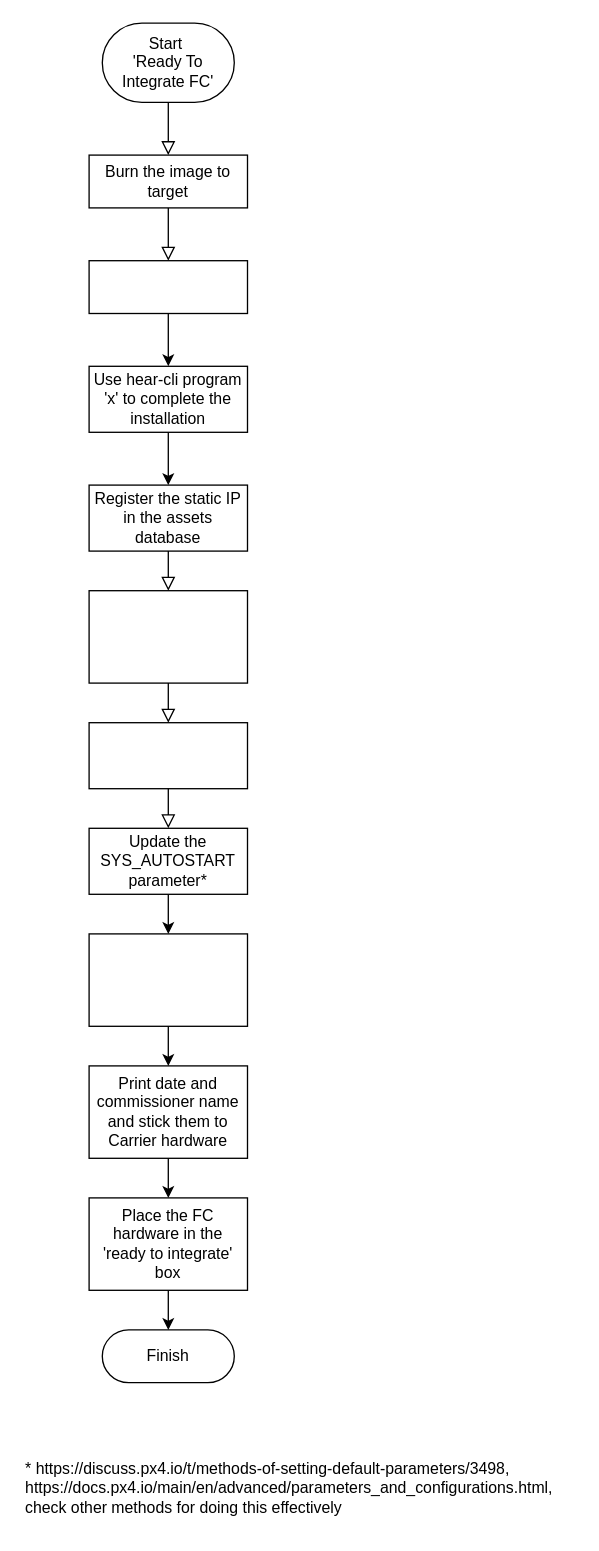
The diagram is 599 pixels wide and 1551 high, and some of its shapes have lost their labels. The shapes that lost their labels are listed below. From the top down, each one's centre as x and y in pixels, then its label:
At pixel 168 286: "Connect to target via LAN and assign static IP".
At pixel 168 636: "Use hear-cli program 'y' to copy latest FC and configurations release".
At pixel 168 755: "Install the latest PX4 firmware".
At pixel 168 979: "Print PX4 rev and autostart parameter, and stick them to Pixhawk hardware".
